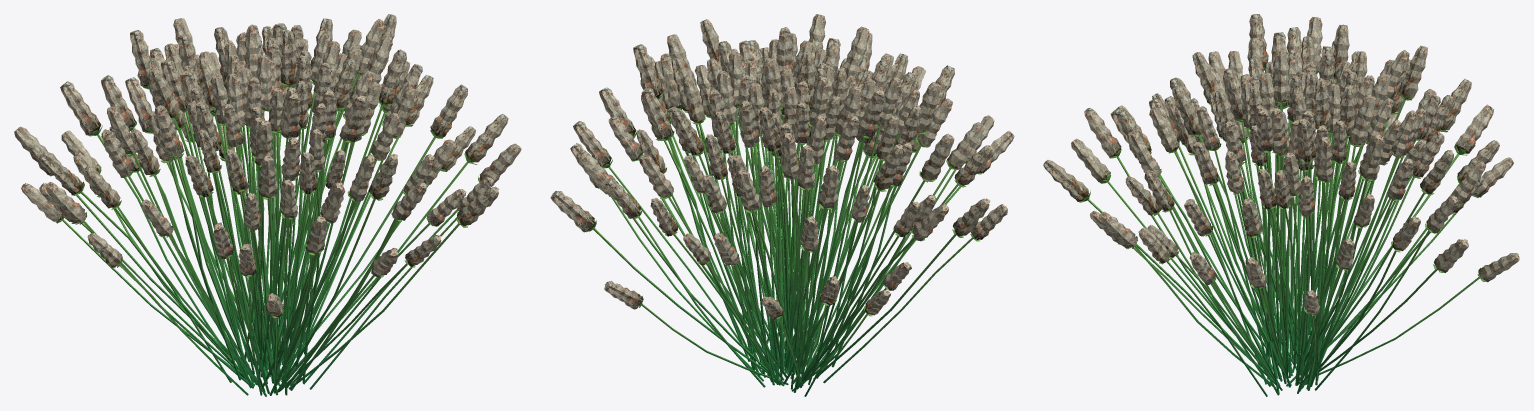
Rendered from lavender-bush.obj.
3 views of the same model, side by side, from view 1: azimuth 30°, elevation 25°; view 2: azimuth 150°, elevation 25°; view 3: azimuth 270°, elevation 25° (orthographic). The views are drawn at different scales.
Parts seen in each view (by area): view 1: LavenderLow.032, LavenderLow.136, LavenderLow.038, LavenderLow.045, LavenderLow.105, LavenderLow.095, LavenderLow.059, LavenderLow.063, LavenderLow.055, LavenderLow.010, LavenderLow.041, LavenderLow.091 (+89 smaller); view 2: LavenderLow.109, LavenderLow.108, LavenderLow.059, LavenderLow.010, LavenderLow.118, LavenderLow.039, LavenderLow.135, LavenderLow.122, LavenderLow.143, LavenderLow.094, LavenderLow.144, LavenderLow.053 (+91 smaller); view 3: LavenderLow.084, LavenderLow.130, LavenderLow.105, LavenderLow.067, LavenderLow.094, LavenderLow.132, LavenderLow.049, LavenderLow.108, LavenderLow.119, LavenderLow.086, LavenderLow.064, LavenderLow.135 (+88 smaller).
Part boxes in pixels (x1=…): LavenderLow.032: x1=277, y1=84, x2=467, y2=384; LavenderLow.136: x1=60, y1=81, x2=244, y2=378; LavenderLow.038: x1=155, y1=105, x2=241, y2=380; LavenderLow.045: x1=39, y1=152, x2=241, y2=371; LavenderLow.105: x1=288, y1=186, x2=498, y2=389; LavenderLow.095: x1=289, y1=114, x2=508, y2=375; LavenderLow.059: x1=149, y1=67, x2=250, y2=362; LavenderLow.063: x1=278, y1=153, x2=397, y2=392; LavenderLow.055: x1=83, y1=165, x2=257, y2=384; LavenderLow.010: x1=101, y1=129, x2=257, y2=384; LavenderLow.041: x1=130, y1=128, x2=246, y2=378; LavenderLow.091: x1=297, y1=49, x2=406, y2=343; LavenderLow.109: x1=550, y1=191, x2=770, y2=375; LavenderLow.108: x1=641, y1=87, x2=760, y2=376; LavenderLow.059: x1=806, y1=90, x2=885, y2=361; LavenderLow.010: x1=797, y1=133, x2=954, y2=385; LavenderLow.118: x1=573, y1=121, x2=765, y2=377; LavenderLow.039: x1=813, y1=198, x2=990, y2=378; LavenderLow.135: x1=604, y1=178, x2=765, y2=387; LavenderLow.122: x1=781, y1=133, x2=803, y2=379; LavenderLow.143: x1=759, y1=107, x2=797, y2=358; LavenderLow.094: x1=633, y1=44, x2=749, y2=361; LavenderLow.144: x1=672, y1=108, x2=779, y2=379; LavenderLow.053: x1=783, y1=144, x2=903, y2=384; LavenderLow.084: x1=1043, y1=160, x2=1275, y2=384; LavenderLow.130: x1=1306, y1=94, x2=1375, y2=389; LavenderLow.105: x1=1099, y1=212, x2=1272, y2=386; LavenderLow.067: x1=1084, y1=108, x2=1251, y2=354; LavenderLow.094: x1=1313, y1=137, x2=1333, y2=377; LavenderLow.132: x1=1299, y1=131, x2=1444, y2=391; LavenderLow.049: x1=1338, y1=104, x2=1493, y2=322; LavenderLow.108: x1=1310, y1=134, x2=1384, y2=386; LavenderLow.119: x1=1299, y1=150, x2=1453, y2=380; LavenderLow.086: x1=1071, y1=138, x2=1246, y2=348; LavenderLow.064: x1=1149, y1=107, x2=1269, y2=349; LavenderLow.135: x1=1314, y1=195, x2=1457, y2=390.
Bounding box in the file's own units: 81.76 × 64.7 × 82.05.
